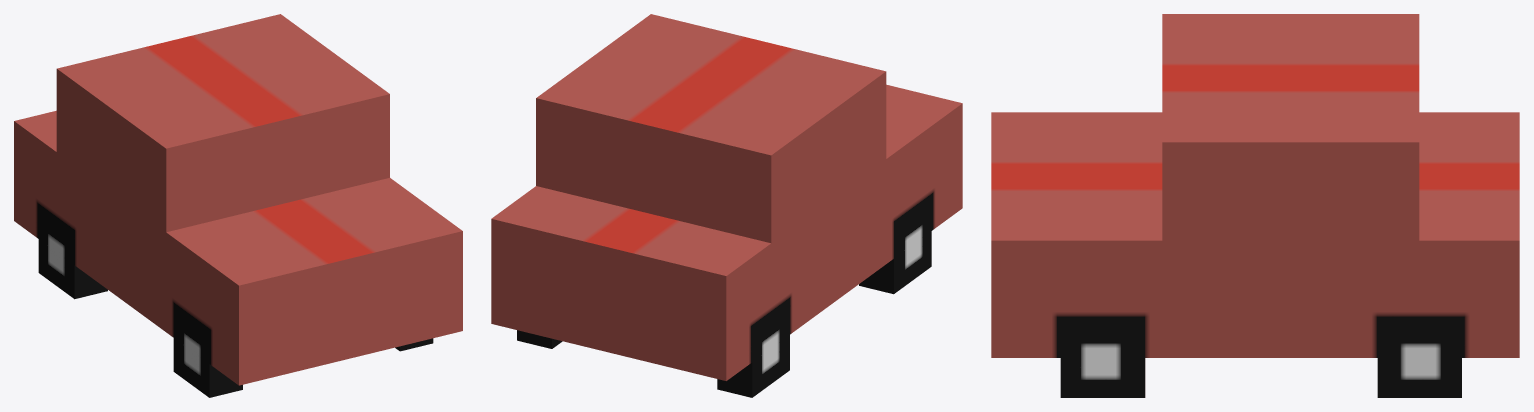
File: BoxCar.FBX
The picture shows the model from 3 angles, left to right: view 1: azimuth 30°, elevation 25°; view 2: azimuth 150°, elevation 25°; view 3: azimuth 270°, elevation 25°; orthographic projection. The views are drawn at different scales.
Visible parts, largest first — view 1: Car01; view 2: Car01; view 3: Car01.
Boxes of the visible parts, x1,y1,x2,y2 form: Car01: [14, 14, 462, 397]; Car01: [491, 14, 962, 397]; Car01: [991, 14, 1519, 397].
Bounding box in the file's own units: 15.28 × 14.19 × 26.58.
